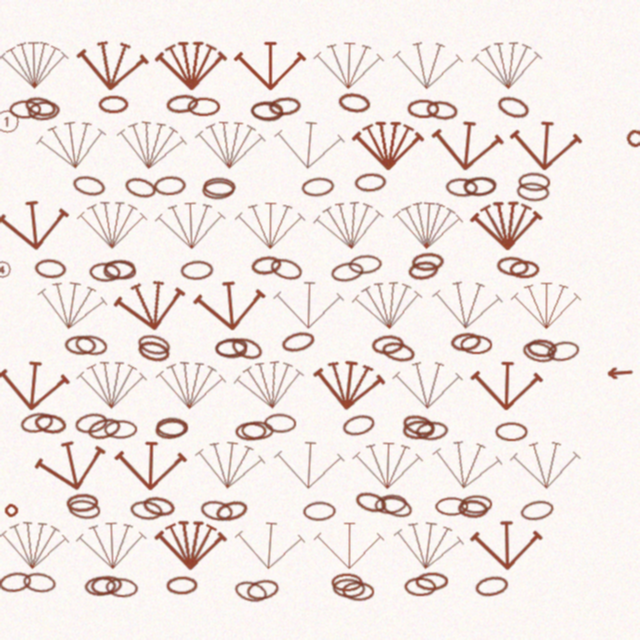chain: (229, 334, 265, 363), (495, 93, 531, 121), (268, 255, 304, 283), (378, 493, 414, 521), (86, 415, 122, 442), (353, 489, 389, 516), (233, 578, 269, 605), (71, 173, 107, 199), (136, 332, 172, 358), (280, 329, 316, 355), (380, 339, 416, 365), (521, 339, 557, 365), (23, 94, 58, 120), (123, 175, 158, 201), (136, 338, 171, 364), (341, 412, 376, 438), (401, 412, 436, 438), (214, 498, 249, 524), (19, 410, 55, 435), (519, 498, 555, 523), (141, 494, 176, 519), (199, 498, 234, 523), (245, 577, 280, 602), (330, 260, 365, 284), (74, 411, 109, 435), (474, 574, 509, 598), (103, 258, 137, 282), (74, 333, 108, 357), (546, 339, 580, 363), (463, 175, 498, 198), (214, 336, 249, 359), (129, 499, 164, 522), (22, 571, 57, 594), (337, 91, 371, 114), (425, 99, 459, 122), (102, 258, 136, 281), (33, 412, 67, 435), (67, 498, 101, 521), (0, 570, 32, 594), (250, 254, 283, 277), (407, 259, 440, 282), (165, 93, 199, 115), (250, 101, 284, 123), (301, 176, 335, 198), (516, 181, 550, 203), (154, 418, 188, 440), (415, 420, 449, 442), (496, 255, 529, 277), (374, 493, 407, 515), (90, 574, 123, 596), (348, 254, 382, 275), (450, 331, 482, 353), (27, 100, 60, 121), (268, 96, 301, 117), (153, 175, 186, 196), (354, 172, 387, 193), (445, 177, 478, 198), (34, 258, 67, 279), (371, 334, 404, 355), (402, 419, 435, 440), (105, 577, 138, 598), (180, 260, 214, 280), (332, 578, 366, 598), (526, 338, 558, 359), (203, 177, 236, 197), (411, 252, 444, 272), (64, 335, 97, 355), (303, 501, 336, 521), (84, 576, 117, 596), (202, 180, 234, 200), (518, 172, 550, 192), (89, 262, 121, 282), (215, 339, 247, 359), (156, 417, 188, 437), (264, 413, 296, 433), (66, 493, 98, 513), (457, 499, 489, 519), (342, 581, 374, 601), (187, 97, 220, 116), (463, 177, 496, 196), (104, 420, 137, 439), (241, 421, 274, 440), (495, 422, 528, 441), (435, 497, 468, 516), (415, 572, 448, 591), (9, 100, 41, 119), (251, 101, 283, 120), (407, 99, 439, 118), (460, 335, 492, 354), (235, 422, 267, 441), (460, 495, 492, 514), (166, 576, 198, 595), (331, 573, 363, 592), (404, 577, 436, 596), (98, 95, 129, 114), (509, 260, 540, 279)
fan: (31, 431, 112, 499), (32, 273, 111, 337), (111, 273, 190, 337), (427, 433, 506, 496), (33, 113, 111, 176), (112, 114, 190, 176), (389, 514, 467, 576), (231, 354, 308, 415), (310, 354, 387, 415), (191, 434, 268, 495), (74, 35, 150, 95), (429, 115, 505, 175), (311, 195, 387, 255), (192, 275, 268, 335), (271, 115, 347, 174), (429, 275, 505, 334), (0, 194, 72, 255), (390, 36, 465, 94), (508, 116, 583, 174), (390, 196, 465, 254), (350, 276, 425, 334), (153, 356, 228, 414), (232, 516, 307, 574), (0, 355, 71, 415), (193, 116, 267, 173), (272, 436, 346, 493), (470, 37, 544, 93), (0, 516, 71, 574), (312, 37, 385, 93), (154, 197, 227, 253), (470, 197, 543, 253), (470, 357, 543, 413), (114, 437, 187, 493), (351, 437, 424, 493), (75, 517, 148, 573), (272, 277, 345, 332), (75, 357, 148, 412), (391, 357, 464, 412), (509, 437, 582, 492), (154, 517, 227, 572), (470, 517, 543, 572), (76, 197, 148, 252), (155, 38, 227, 92), (234, 38, 306, 92), (352, 118, 424, 172), (234, 198, 306, 252), (510, 278, 582, 332), (313, 518, 385, 572), (0, 37, 70, 92)
noise: (0, 108, 20, 134), (623, 126, 640, 150), (605, 367, 633, 379), (0, 259, 12, 279), (4, 503, 19, 518)
